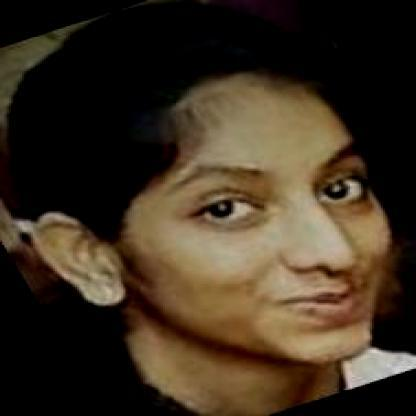without_mask: (134, 165, 412, 352)
